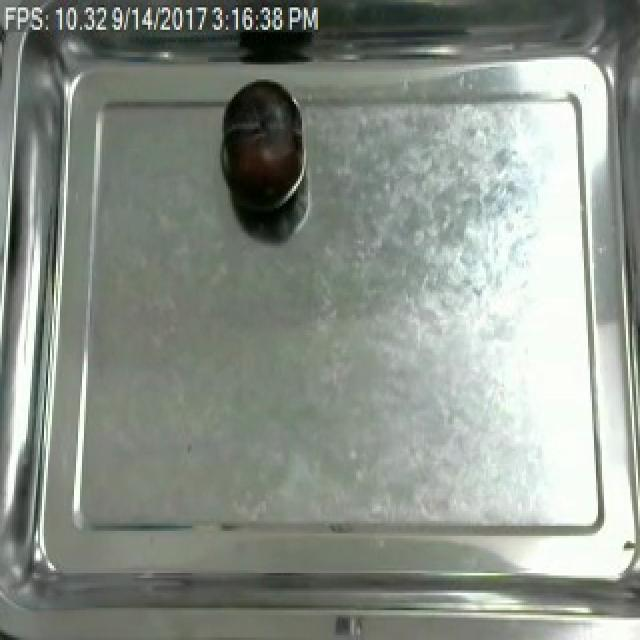Fruit: (218, 77, 304, 218)
